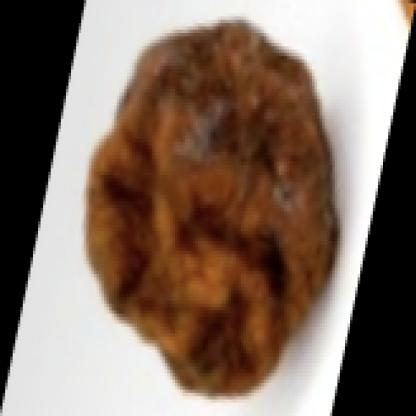rotten: (84, 18, 340, 397)
